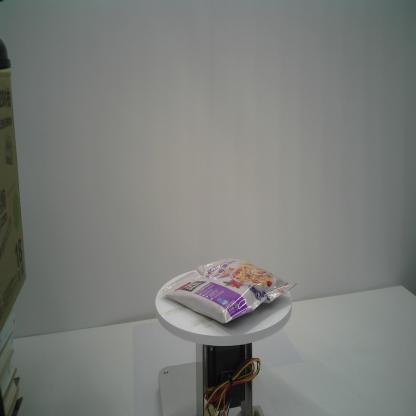Instant Drink: (160, 258, 298, 326)
